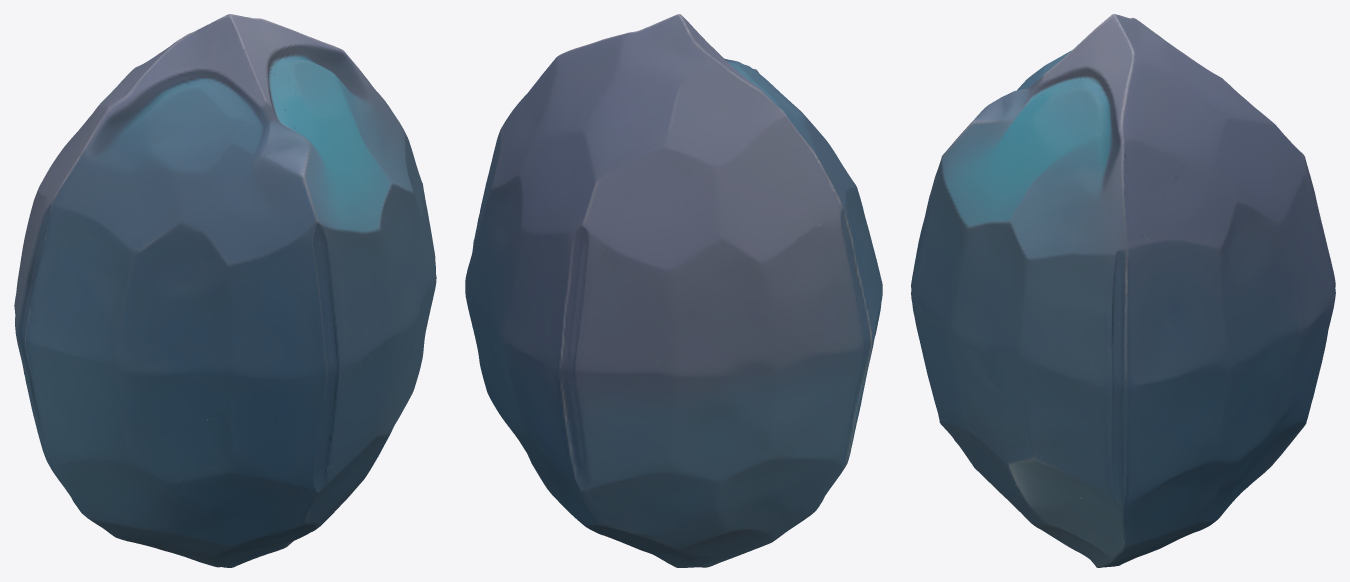
File: base_basic_shaded.fbx
The picture shows the model from 3 angles, left to right: view 1: azimuth 30°, elevation 25°; view 2: azimuth 150°, elevation 25°; view 3: azimuth 270°, elevation 25°; orthographic projection.
Parts seen in each view (by area): view 1: model; view 2: model; view 3: model.
Part boxes in pixels (x1=…): model: x1=14, y1=14, x2=436, y2=567; model: x1=465, y1=14, x2=882, y2=567; model: x1=911, y1=14, x2=1335, y2=567.
Bounding box in the file's own units: 143 × 190 × 133.
